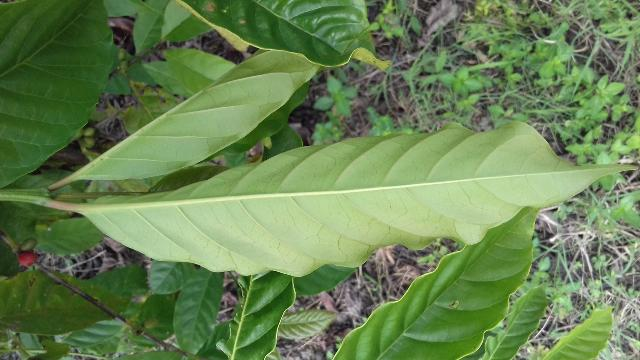healthy: (78, 113, 640, 279)
